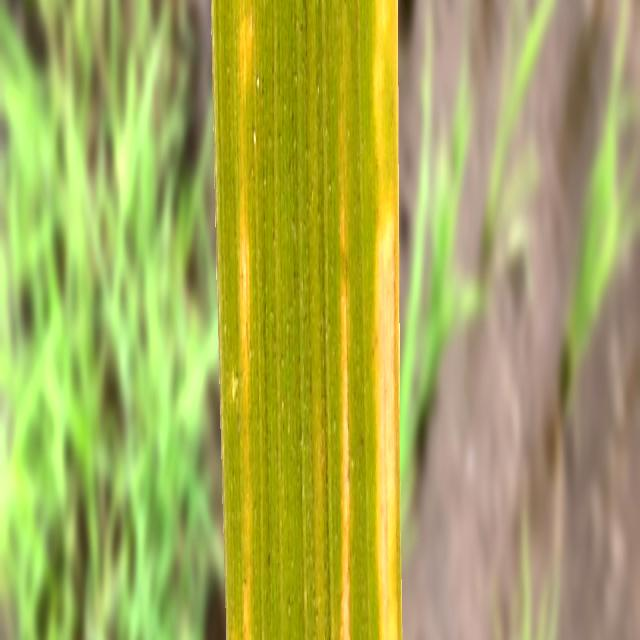BLS: (237, 0, 257, 640), (376, 195, 398, 640), (340, 179, 351, 640)
